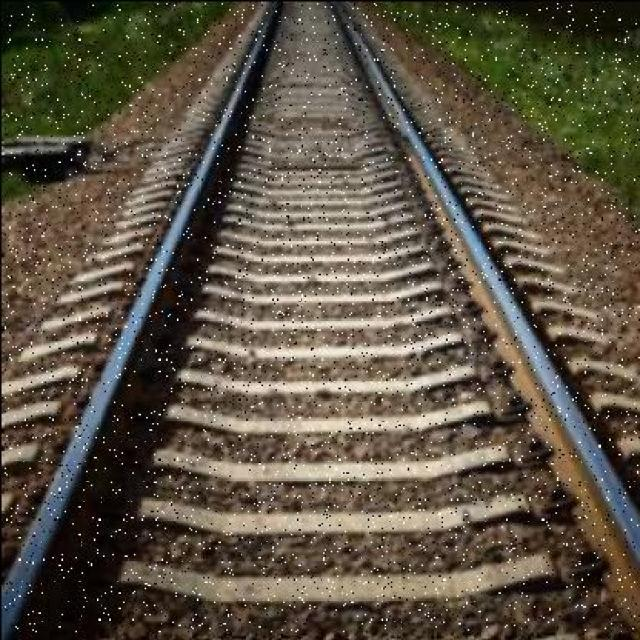rail: (3, 2, 638, 631)
